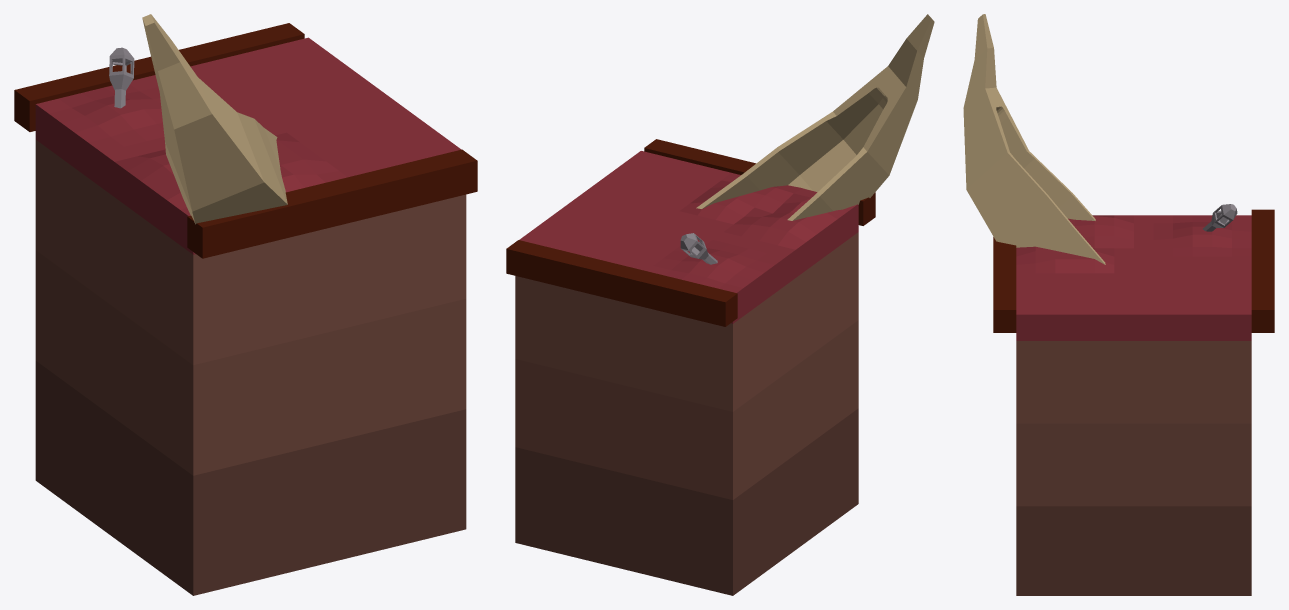
The model's file is Plano4.fbx.
3 views of the same model, side by side, from view 1: azimuth 30°, elevation 25°; view 2: azimuth 150°, elevation 25°; view 3: azimuth 270°, elevation 25° (orthographic). The views are drawn at different scales.
Visible parts, largest first — view 1: Plane.053, Plane.036, Cube.1714, Barco, Lampada; view 2: Plane.053, Plane.036, Barco, Cube.1714, Lampada; view 3: Plane.053, Plane.036, Barco, Cube.1714, Lampada.
Boxes of the visible parts, x1,y1,x2,y2 form: Plane.053: (35,140,466,595); Plane.036: (35,37,461,254); Cube.1714: (14,23,477,258); Barco: (142,14,287,224); Lampada: (109,47,134,108); Plane.053: (515,232,858,595); Plane.036: (519,151,858,323); Barco: (696,14,934,220); Cube.1714: (506,139,875,326); Lampada: (680,233,717,264); Plane.053: (1016,341,1251,595); Plane.036: (1016,215,1251,340); Barco: (963,14,1105,264); Cube.1714: (993,209,1274,332); Lampada: (1203,204,1237,231).
Bounding box in the file's own units: 1010 × 1720 × 1057.
